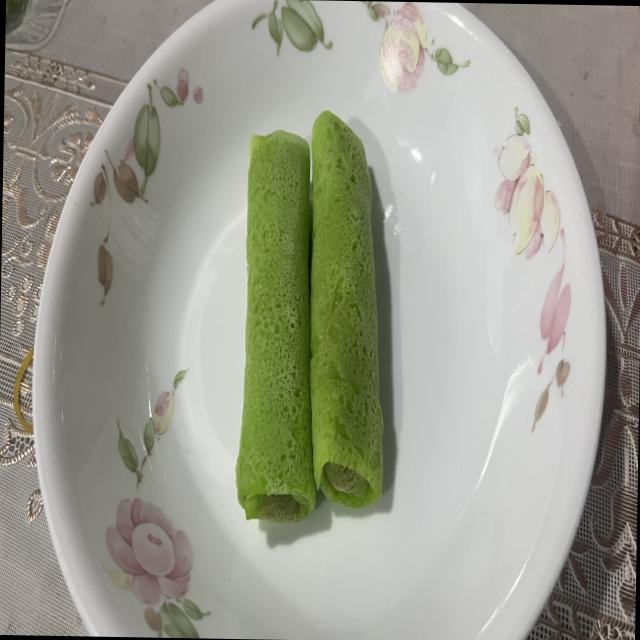Kuih-Ketayap: (235, 130, 315, 522), (309, 111, 383, 507)
